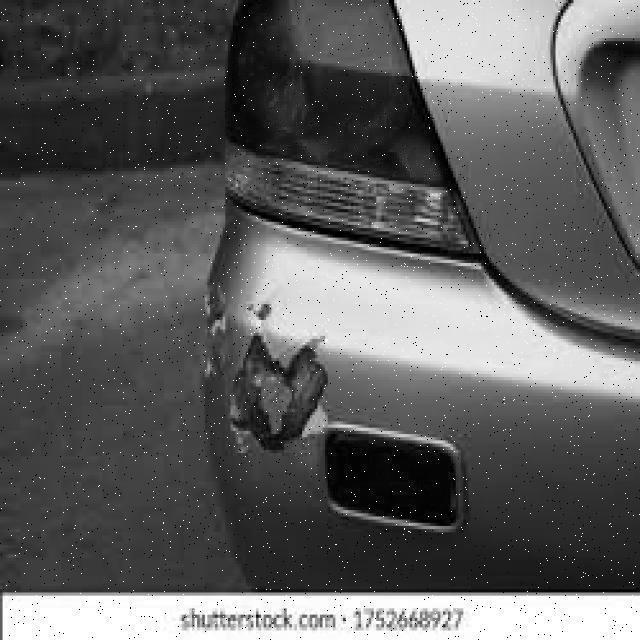rear-bumper-dent: (146, 187, 537, 589)
